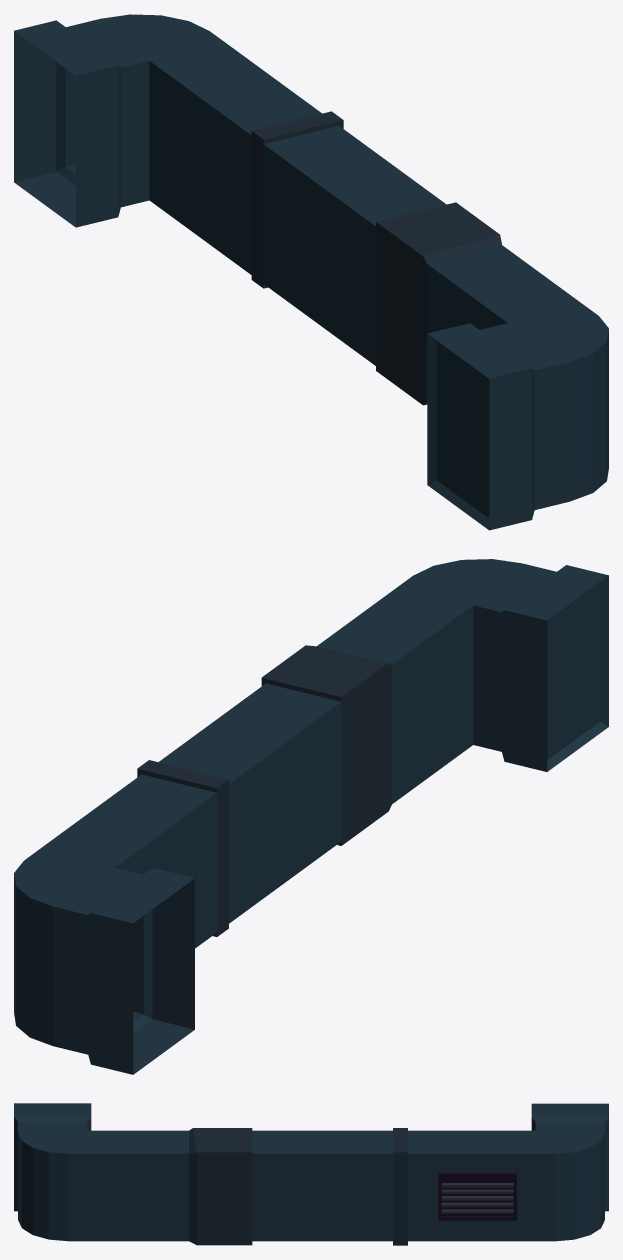
File: Building_VentShaft_HorzWall.fbx
3 views of the same model, one above another, from view 1: azimuth 30°, elevation 25°; view 2: azimuth 150°, elevation 25°; view 3: azimuth 270°, elevation 25° (orthographic). The views are drawn at different scales.
Parts seen in each view (by area): view 1: Vent_Vert_Roof.001; view 2: Vent_Vert_Roof.001; view 3: Vent_Vert_Roof.001.
Part boxes in pixels (x1,y1,x2,y2): Vent_Vert_Roof.001: [14, 14, 608, 530]; Vent_Vert_Roof.001: [14, 559, 608, 1074]; Vent_Vert_Roof.001: [14, 1103, 608, 1245].
Size of the model in its own units: 110 by 100 by 569.
